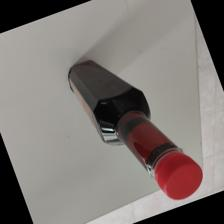Namngu: (66, 59, 203, 201)
